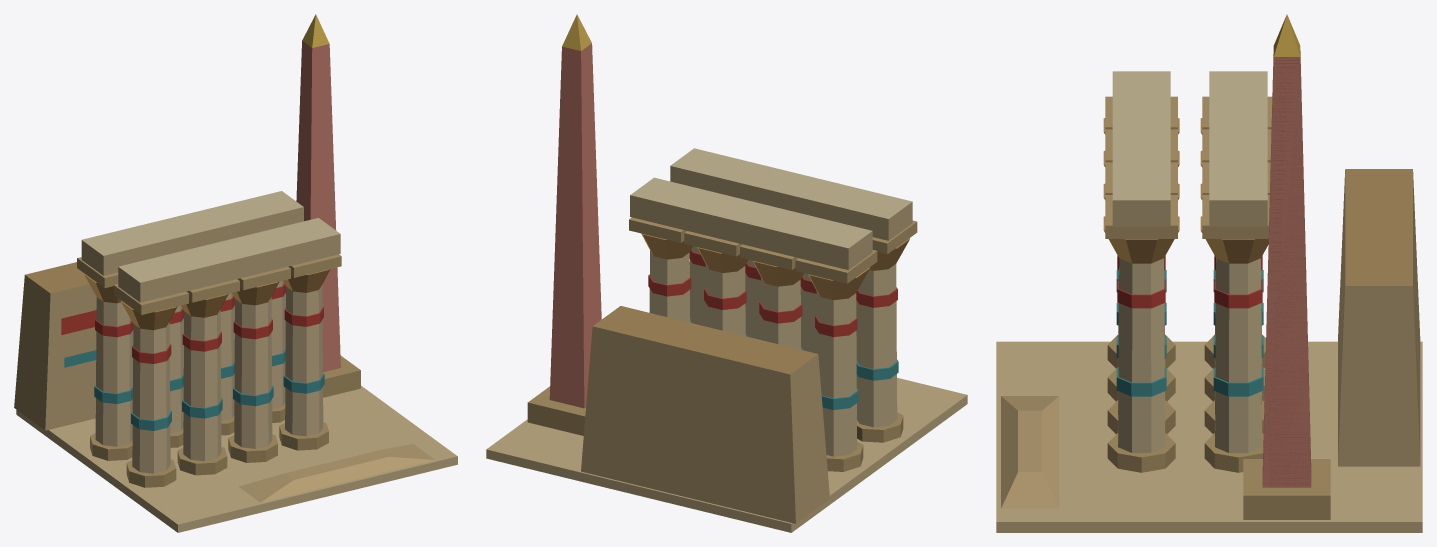
File: karnak.glb
3 views of the same model, side by side, from view 1: azimuth 30°, elevation 25°; view 2: azimuth 150°, elevation 25°; view 3: azimuth 270°, elevation 25° (orthographic). The views are drawn at different scales.
Parts seen in each view (by area): view 1: karnak; view 2: karnak; view 3: karnak.
Part boxes in pixels (bbox=[...]): karnak: bbox=[14, 14, 457, 532]; karnak: bbox=[486, 14, 967, 532]; karnak: bbox=[996, 14, 1422, 532].
Bounding box in the file's own units: 1.78 × 2.27 × 1.76.
